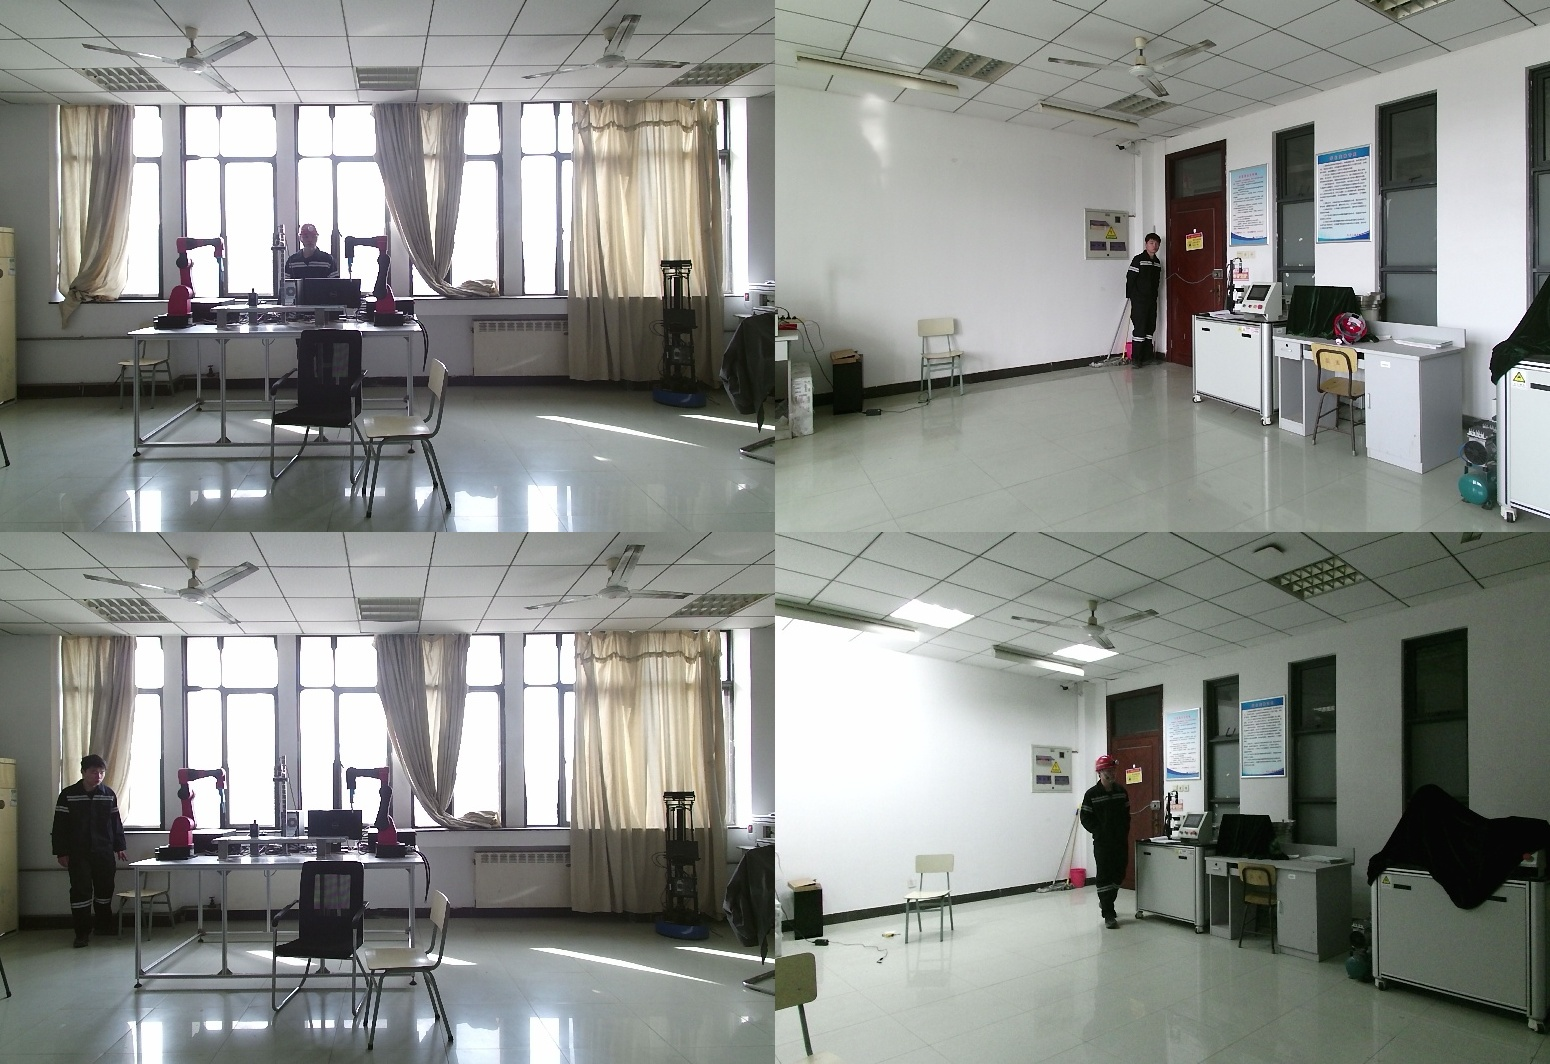person: (42, 756, 127, 947), (1079, 756, 1137, 932), (1125, 233, 1163, 372), (283, 222, 342, 281)
